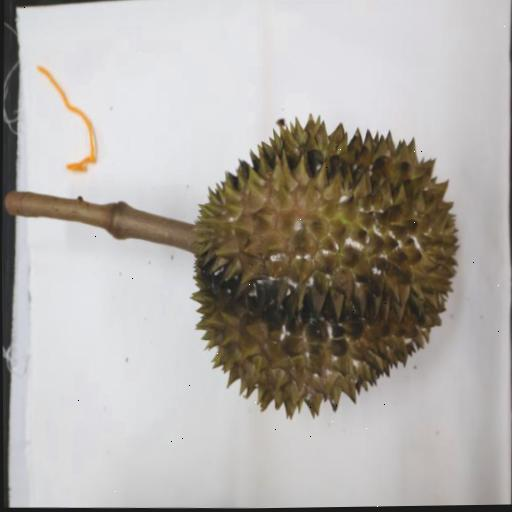mold: (160, 90, 489, 462)
